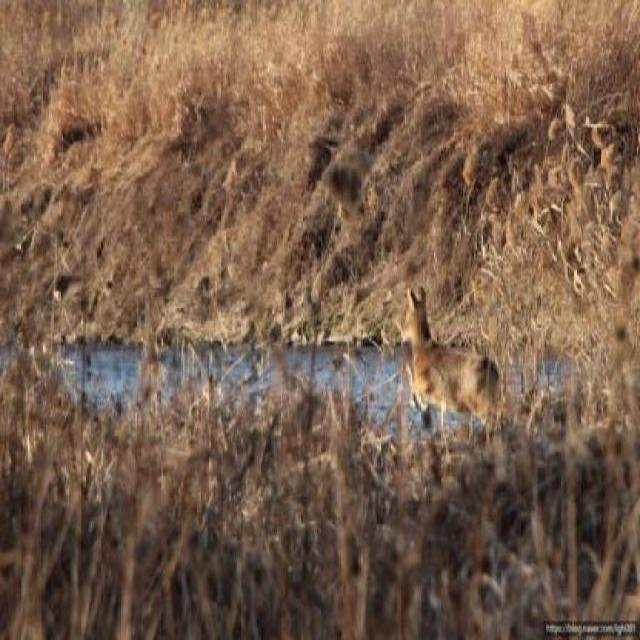deer: (400, 283, 522, 445)
